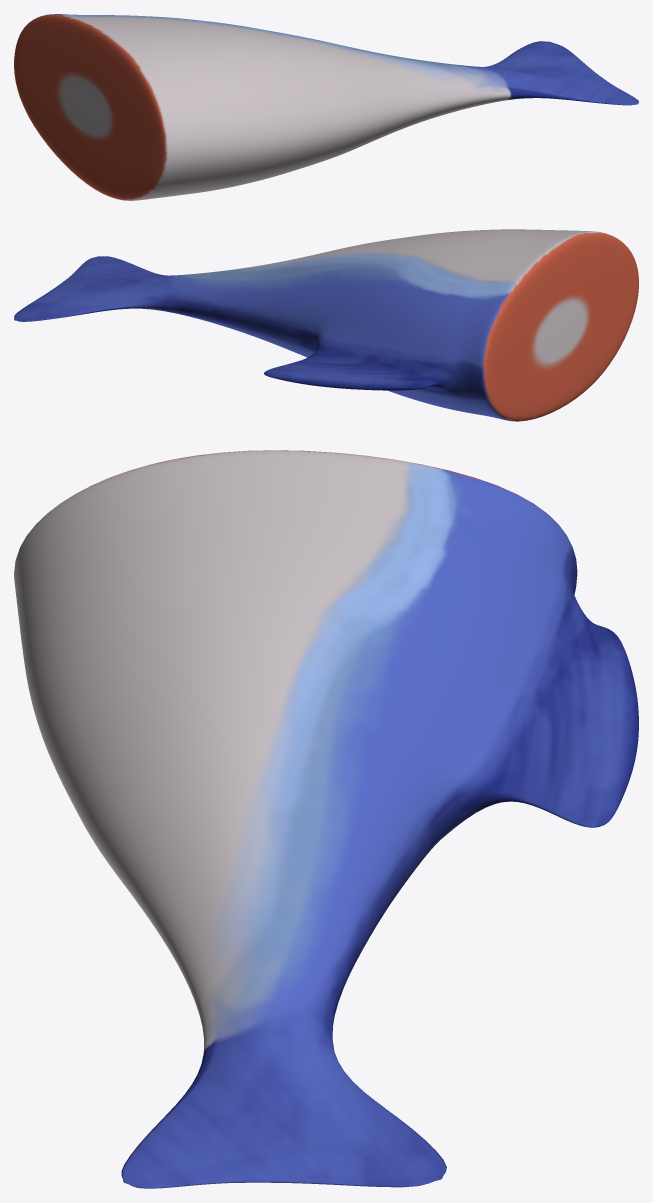
File: Salmon.fbx
3 views of the same model, one above another, from view 1: azimuth 30°, elevation 25°; view 2: azimuth 150°, elevation 25°; view 3: azimuth 270°, elevation 25° (orthographic). The views are drawn at different scales.
Visible parts, largest first — view 1: SM_Salmon; view 2: SM_Salmon; view 3: SM_Salmon.
Boxes of the visible parts, x1=… form: SM_Salmon: x1=14, y1=14, x2=638, y2=200; SM_Salmon: x1=14, y1=229, x2=638, y2=421; SM_Salmon: x1=14, y1=450, x2=638, y2=1188.
Size of the model in its own units: 66.26 by 19.56 by 37.36.
